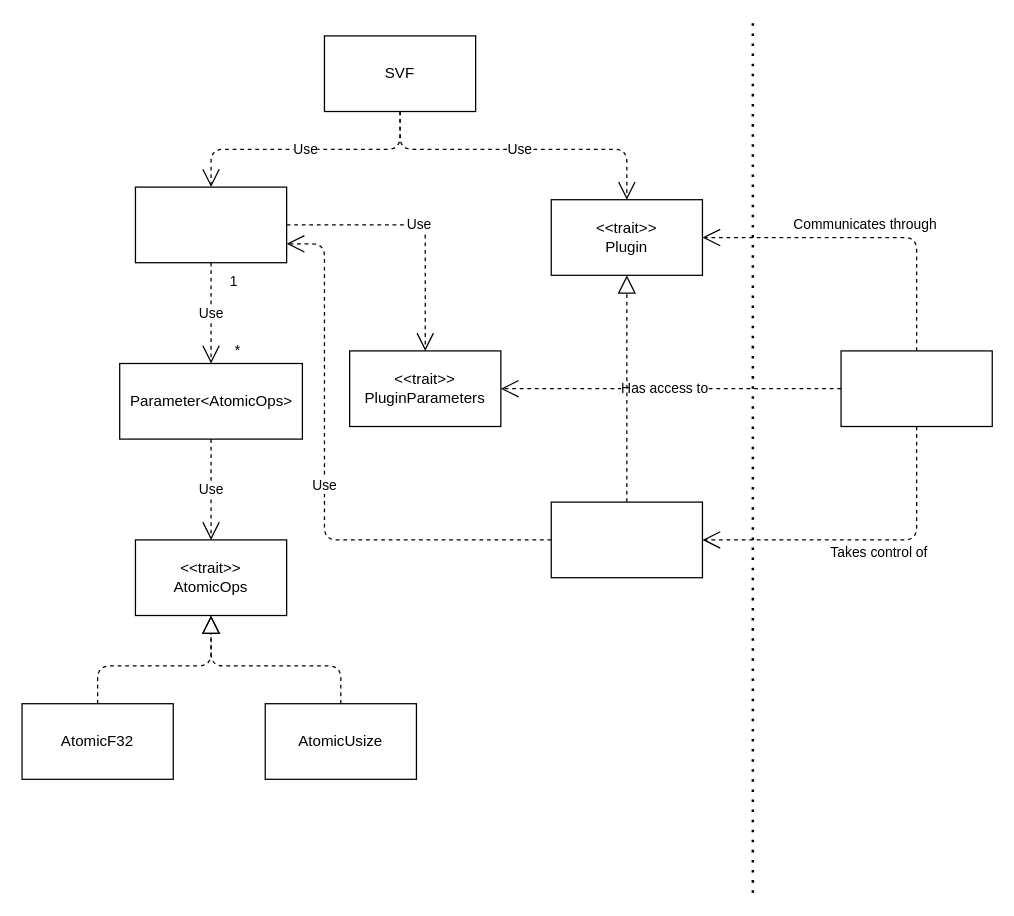
Some shapes in this 1014 by 916 pixel diagram are drawn without their labels. The centre of each missing label's shape, as x and y in pixels:
"FilterParameters" belongs at point (210, 224).
"SVFPluginEditor" belongs at point (626, 539).
"VST-host" belongs at point (916, 388).
